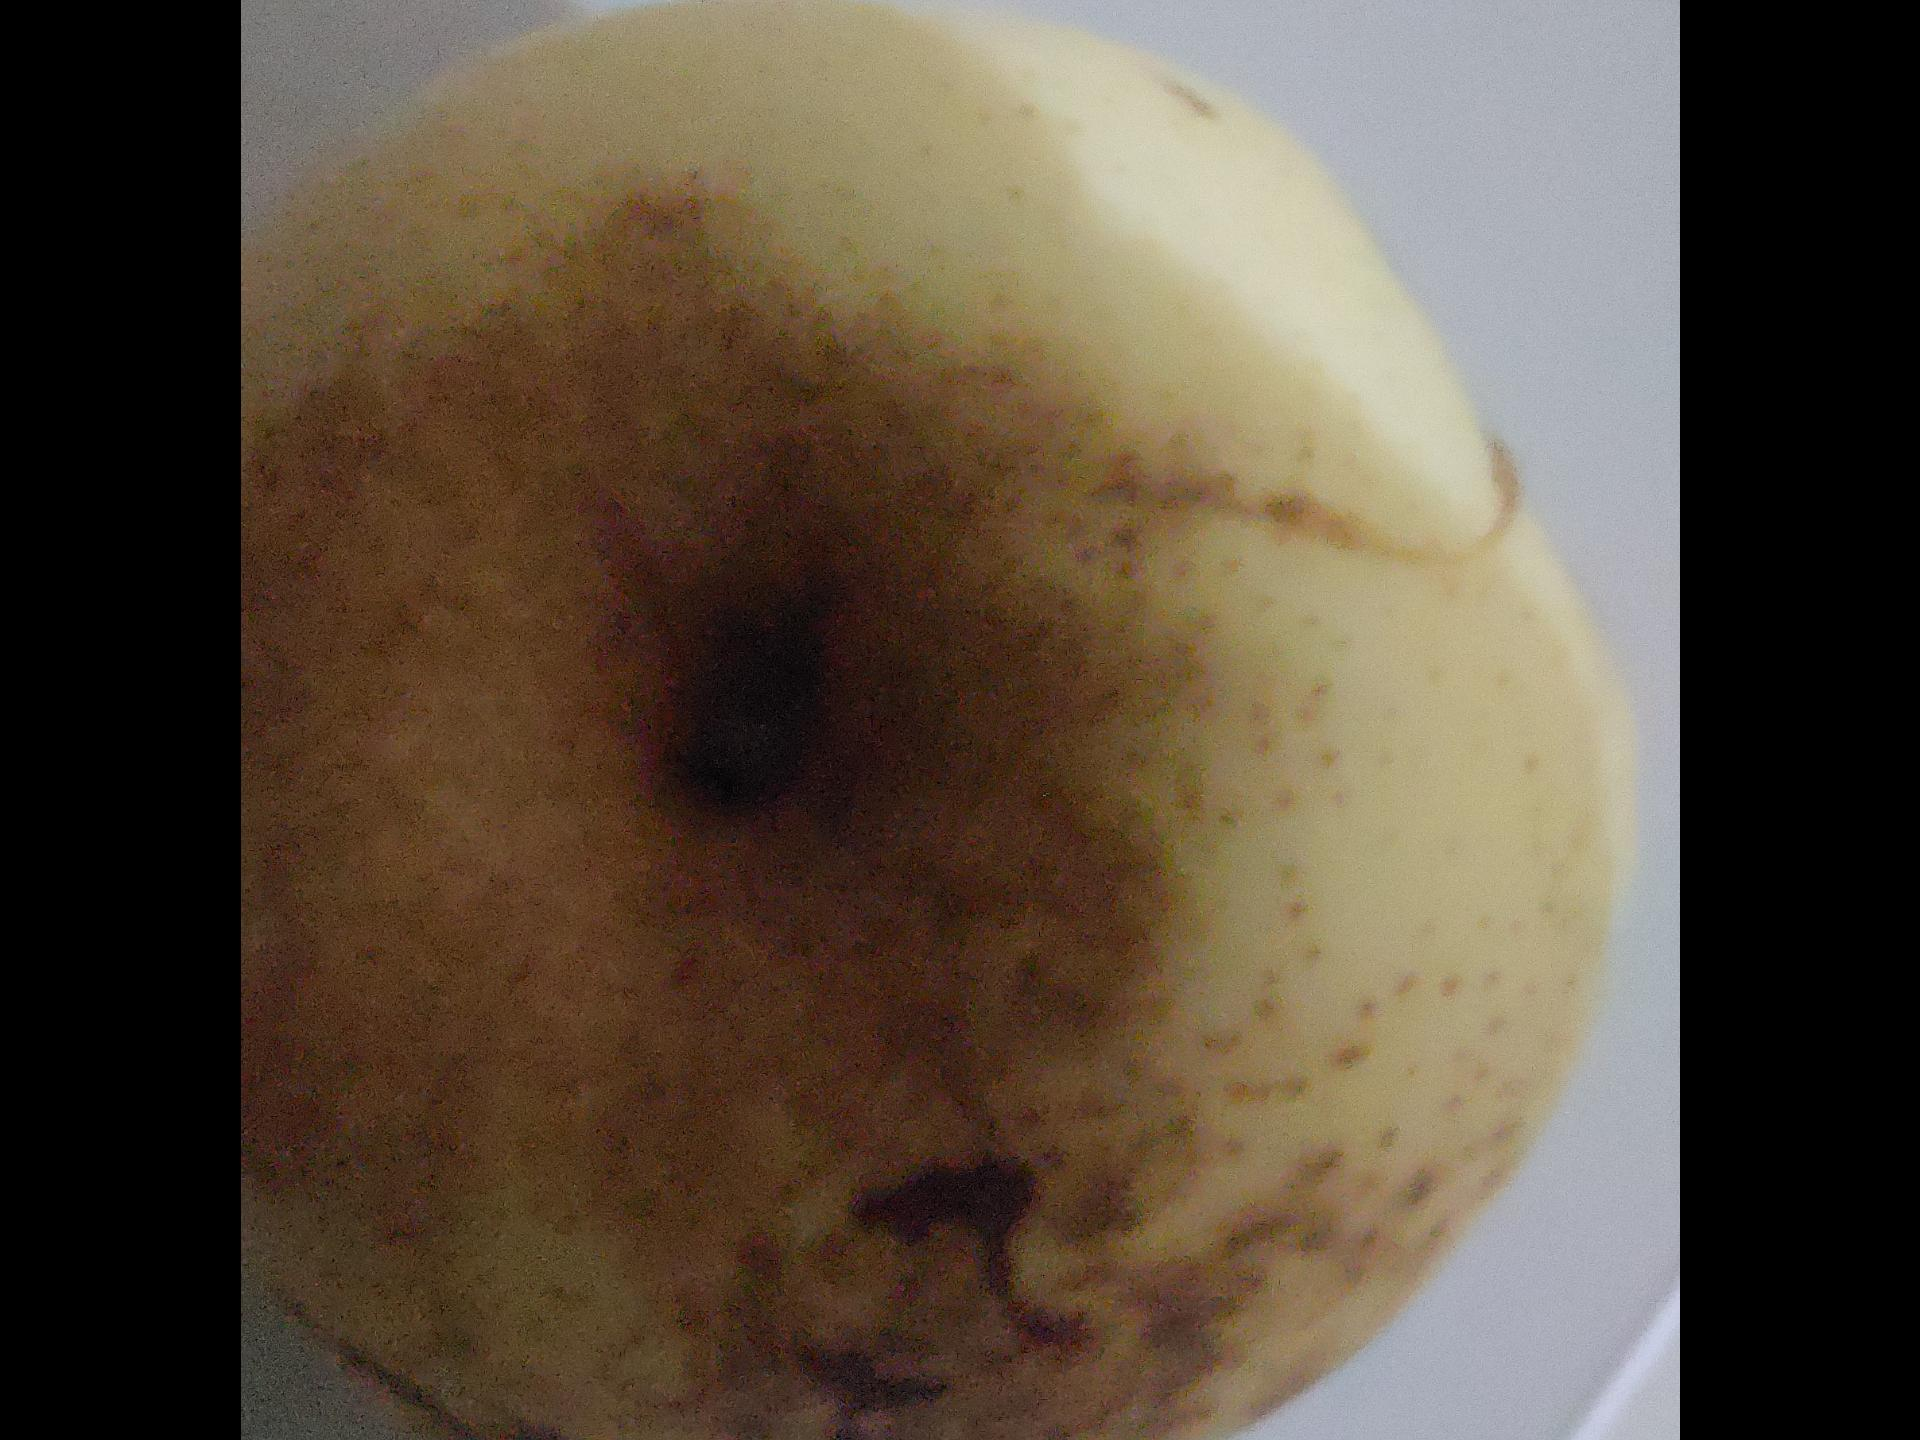Bad Pear: (240, 0, 1643, 1440)
